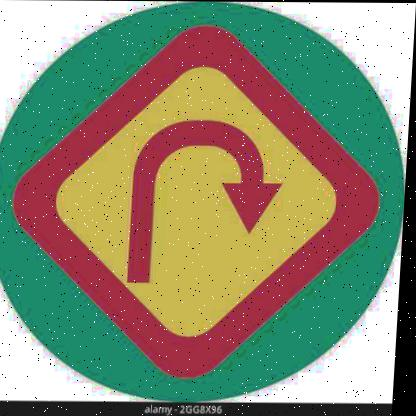U-turn: (8, 21, 401, 354)
